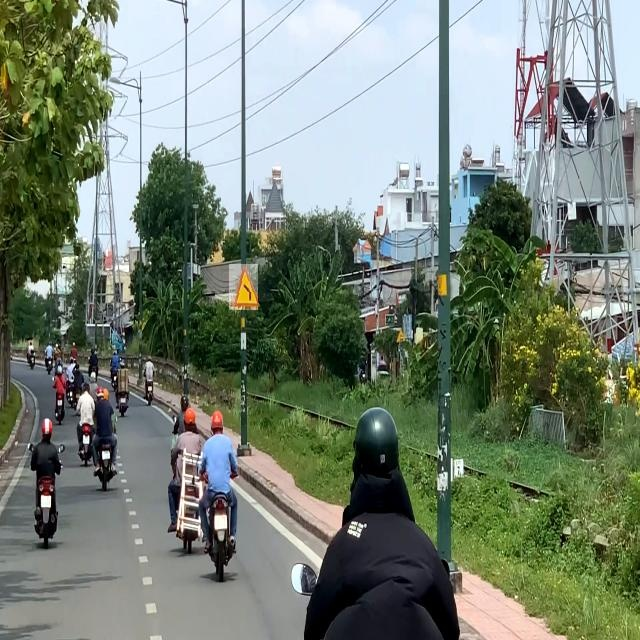bien_nguy_hiem: (229, 264, 258, 310)
